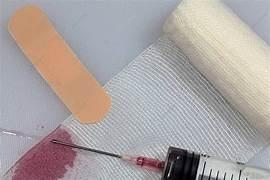Bandage: (9, 6, 109, 122)
Syringe: (51, 139, 269, 179), (51, 139, 164, 170)
cotton: (63, 0, 268, 161), (62, 37, 267, 161), (64, 37, 267, 161), (164, 0, 269, 136), (1, 126, 98, 179), (8, 127, 76, 179)
